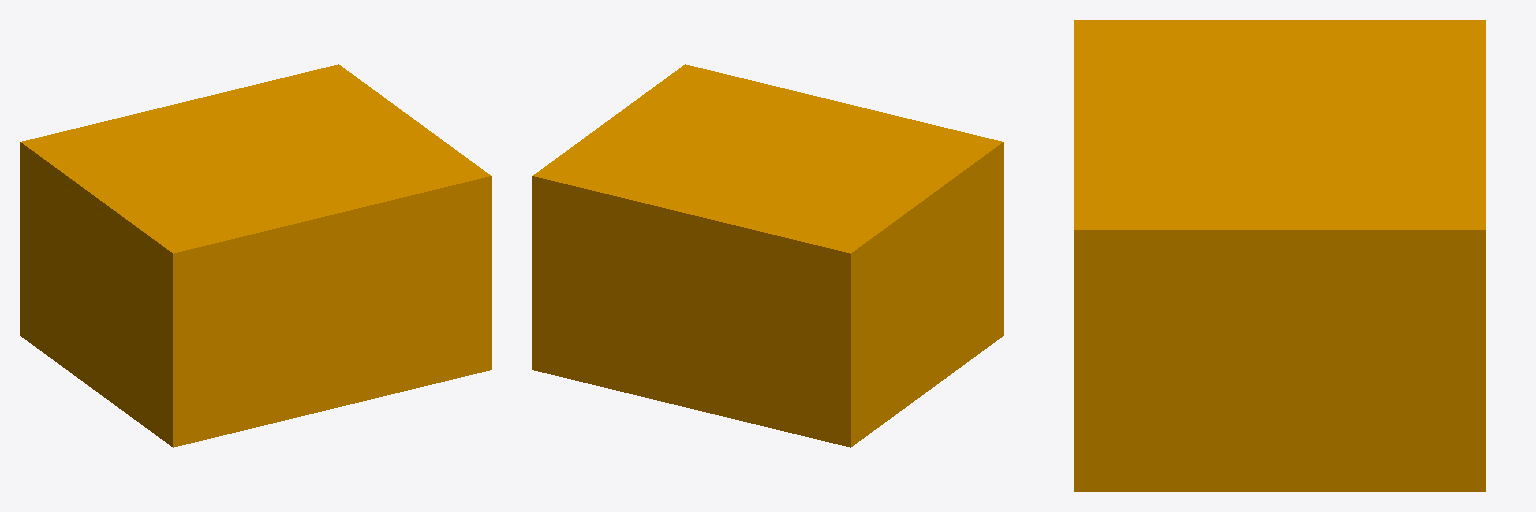
robot.urdf — 2x2:
<?xml version='1.0' encoding='UTF-8'?>
<robot name="2x2">
  <link name="base_link">
    <inertial>
      <origin xyz="0.0 0.0 0.0" rpy="0.0 0.0 0.0"/>
      <mass value="0.01"/>
      <inertia ixx="0.1" ixy="0.0" ixz="0.0" iyy="0.1" iyz="0.0" izz="0.1"/>
    </inertial>
    <visual>
      <geometry>
        <box size="0.0206 0.0171 0.012 "/>
      </geometry>
      <material name=""/>
      <origin xyz="0.0 0.0 0.0" rpy="0.0 0.0 0.0"/>
    </visual>
    <collision>
      <geometry>
        <box size="0.0206 0.0171 0.012 "/>
      </geometry>
      <origin xyz="0.0 0.0 0.0" rpy="0.0 0.0 0.0"/>
    </collision>
  </link>
  <material name="">
    <color rgba="1. 1. 1. 1."/>
  </material>
  <contact>
    <lateral_friction value="1.0"/>
    <rolling_friction value="0.0"/>
    <contact_cfm value="0.0"/>
    <contact_erp value="1.0"/>
  </contact>
</robot>

--- Facts derived from the render (not from the file) ---
3 views of the same robot in one strip: view 1: azimuth 30°, elevation 25°; view 2: azimuth 150°, elevation 25°; view 3: azimuth 270°, elevation 25° (orthographic).
Model 2x2 with 1 links and 0 joints (none), rooted at base_link, posed every joint at zero.
Links seen in each view (by area): view 1: base_link; view 2: base_link; view 3: base_link.
Link boxes in pixels (x1=…): base_link: x1=20, y1=64, x2=491, y2=447; base_link: x1=532, y1=64, x2=1003, y2=447; base_link: x1=1074, y1=20, x2=1485, y2=491.
Size in the robot's own frame: 0.0206 by 0.0171 by 0.012 metres.
Geometry: primitives only (box / cylinder / sphere), no mesh files.